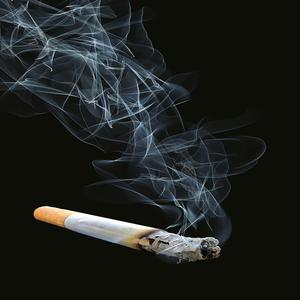cigarette: (31, 201, 221, 263)
